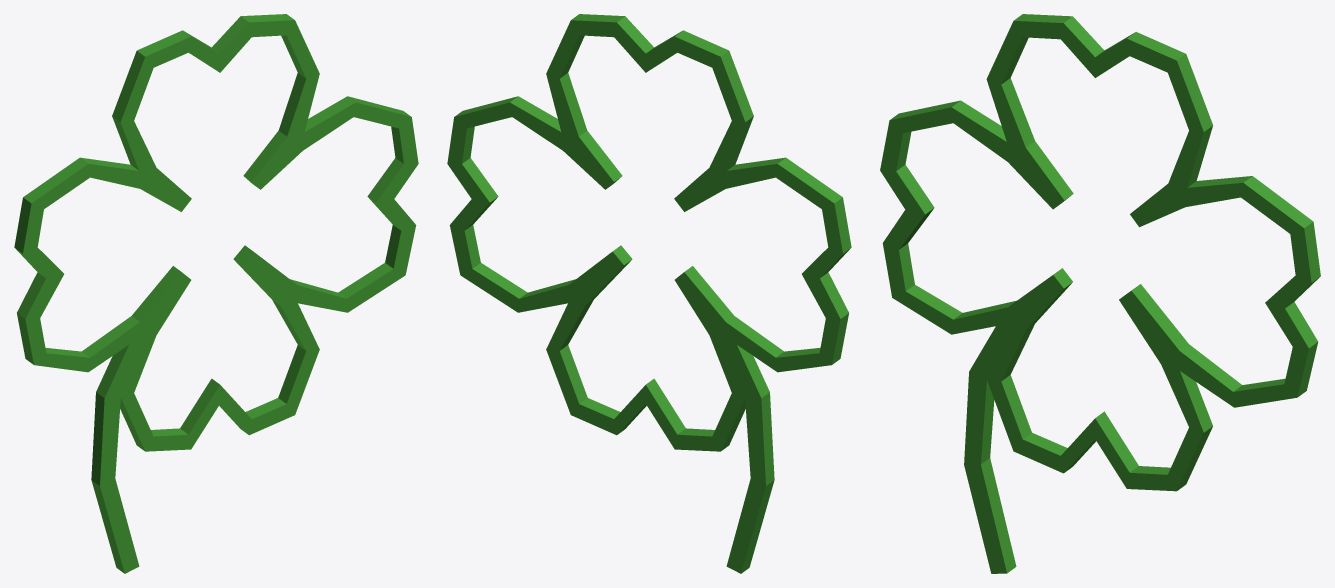
The model's file is SM_Prop_Neon_Shape_01.obj.
The picture shows the model from 3 angles, left to right: view 1: azimuth 30°, elevation 25°; view 2: azimuth 150°, elevation 25°; view 3: azimuth 330°, elevation 25°; orthographic projection. The views are drawn at different scales.
Parts seen in each view (by area): view 1: SM_Prop_Neon_Shape_01_0; view 2: SM_Prop_Neon_Shape_01_0; view 3: SM_Prop_Neon_Shape_01_0.
Boxes of the visible parts, x1,y1,x2,y2 form: SM_Prop_Neon_Shape_01_0: (14, 14, 418, 573); SM_Prop_Neon_Shape_01_0: (447, 14, 851, 573); SM_Prop_Neon_Shape_01_0: (880, 14, 1320, 573).
Bounding box in the file's own units: 0.7986 × 1.01 × 0.0299.
Materials: 1 (1 with a texture image).
